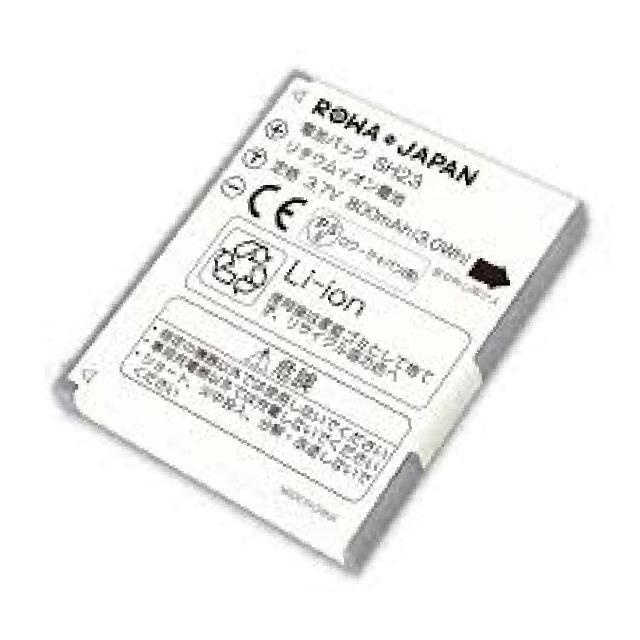Battery: (16, 39, 640, 597)
